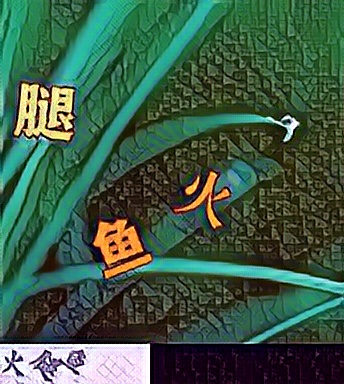BBF0: (172, 167, 232, 231)
CDC8: (14, 79, 74, 143)
D3E3: (92, 216, 152, 280)
